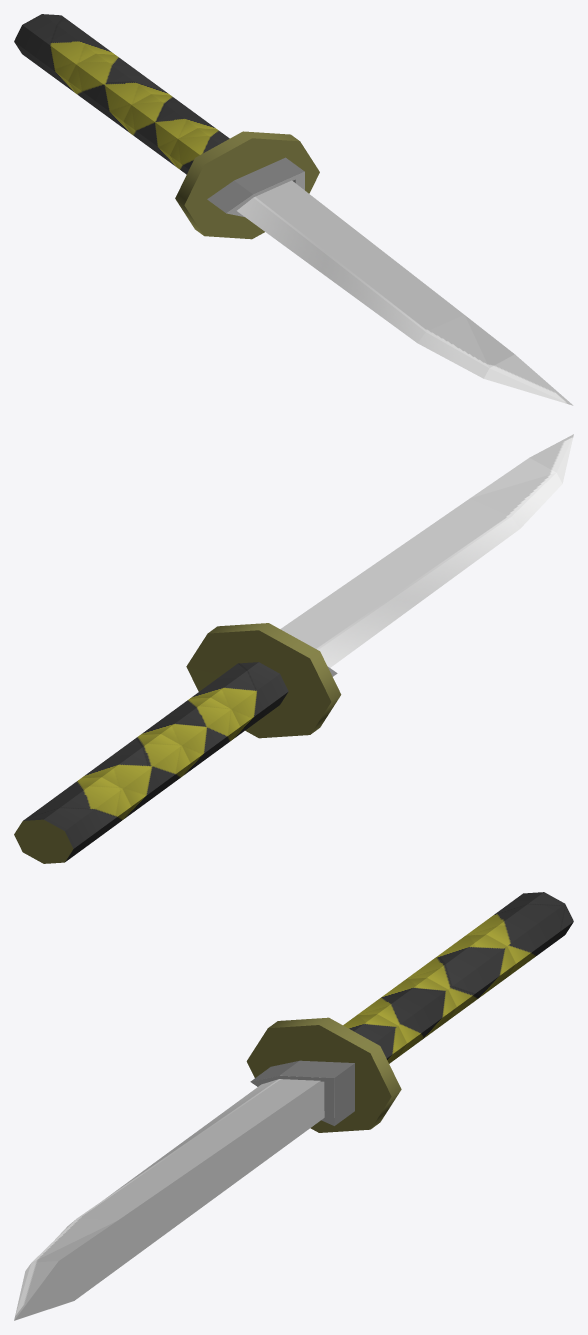
Rendered from tanto.FBX.
3 renders of one model, top to bottom at view 1: azimuth 30°, elevation 25°; view 2: azimuth 150°, elevation 25°; view 3: azimuth 330°, elevation 25°, orthographic. The views are drawn at different scales.
Parts seen in each view (by area): view 1: Katana; view 2: Katana; view 3: Katana.
Part boxes in pixels (x1=…): Katana: x1=14, y1=14, x2=573, y2=405; Katana: x1=14, y1=434, x2=573, y2=863; Katana: x1=14, y1=892, x2=573, y2=1320.
Size of the model in its own units: 18.23 by 12.97 by 120.
Materials: 1 (1 with a texture image).
